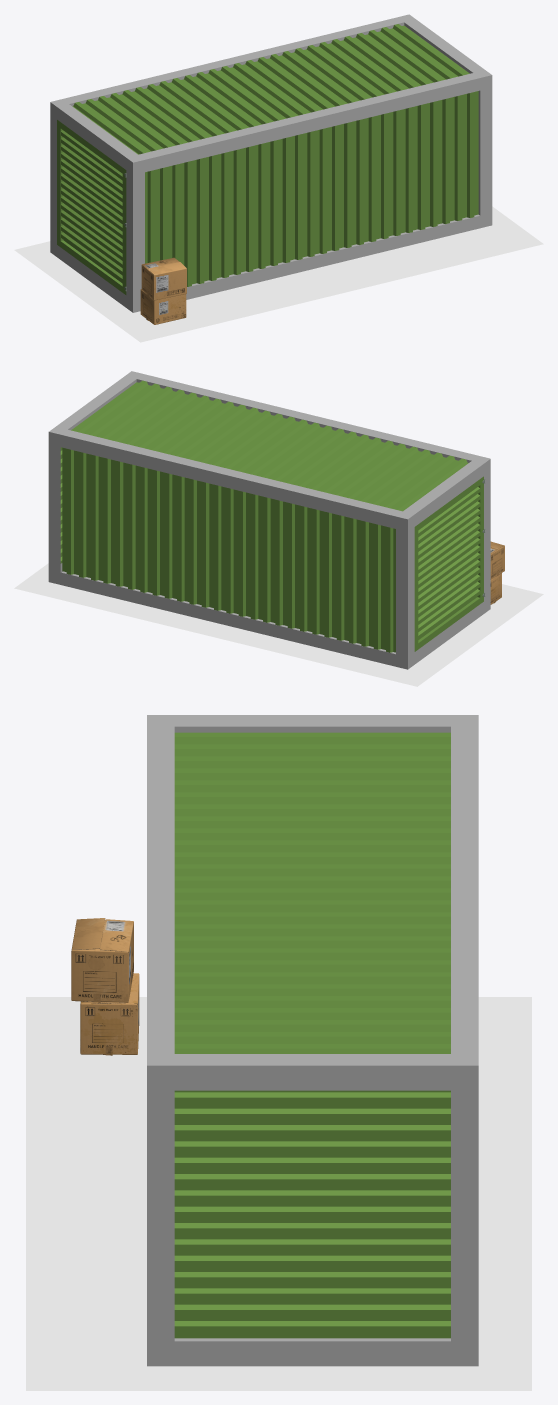
The picture shows the model from 3 angles, top to bottom: view 1: azimuth 30°, elevation 25°; view 2: azimuth 150°, elevation 25°; view 3: azimuth 270°, elevation 25°; orthographic projection. The views are drawn at different scales.
Parts seen in each view (by area): view 1: Cube.040, Cube.038, Cube.039, Plane, Cube.046, Cube.043, Object_9, Object_10; view 2: Cube.041, Cube.038, Cube.039, Plane, Cube.046, Cube.043, Object_9; view 3: Cube.039, Plane, Cube.045, Cube.038, Object_9, Object_10.
Boxes of the visible parts, bbox=[...] form: Cube.040: bbox=[145, 91, 478, 286]; Cube.038: bbox=[50, 14, 492, 312]; Cube.039: bbox=[72, 24, 469, 154]; Plane: bbox=[14, 206, 543, 342]; Cube.046: bbox=[61, 130, 122, 283]; Cube.043: bbox=[57, 120, 126, 294]; Object_9: bbox=[141, 257, 186, 300]; Object_10: bbox=[140, 289, 186, 324]; Cube.041: bbox=[62, 447, 395, 652]; Cube.038: bbox=[48, 371, 490, 669]; Cube.039: bbox=[71, 380, 468, 511]; Plane: bbox=[14, 563, 543, 686]; Cube.046: bbox=[418, 487, 480, 639]; Cube.043: bbox=[414, 476, 483, 651]; Object_9: bbox=[490, 541, 504, 579]; Cube.039: bbox=[174, 732, 450, 1053]; Plane: bbox=[26, 997, 531, 1390]; Cube.045: bbox=[174, 1090, 450, 1338]; Cube.038: bbox=[147, 715, 478, 1366]; Object_9: bbox=[71, 918, 133, 1002]; Object_10: bbox=[80, 973, 139, 1055].
Bounding box in the file's own units: 6.74 × 2.43 × 3.66.
7 materials, 2 textured.
